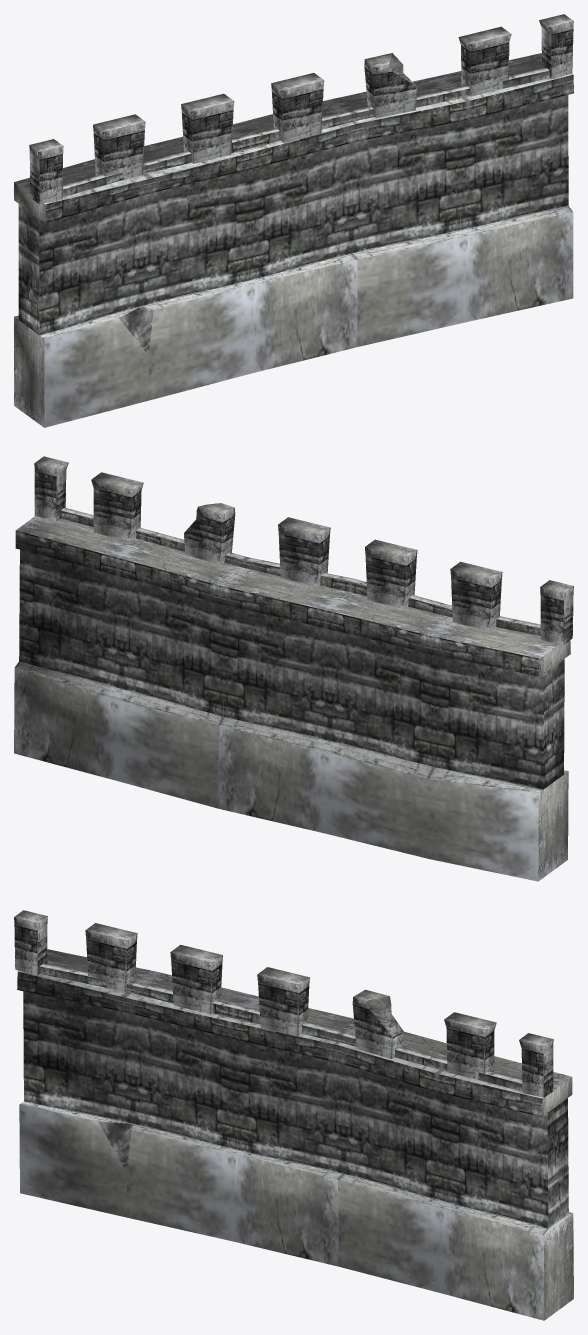
Rendered from S_Build_Snowland039.FBX.
3 renders of one model, top to bottom at view 1: azimuth 30°, elevation 25°; view 2: azimuth 150°, elevation 25°; view 3: azimuth 330°, elevation 25°, orthographic.
Parts seen in each view (by area): view 1: S_Build_Snowland039; view 2: S_Build_Snowland039; view 3: S_Build_Snowland039.
Boxes of the visible parts, x1,y1,x2,y2 form: S_Build_Snowland039: (14,14,573,427); S_Build_Snowland039: (14,456,573,881); S_Build_Snowland039: (14,910,573,1320).
Size of the model in its own units: 1514 by 193 by 752.
